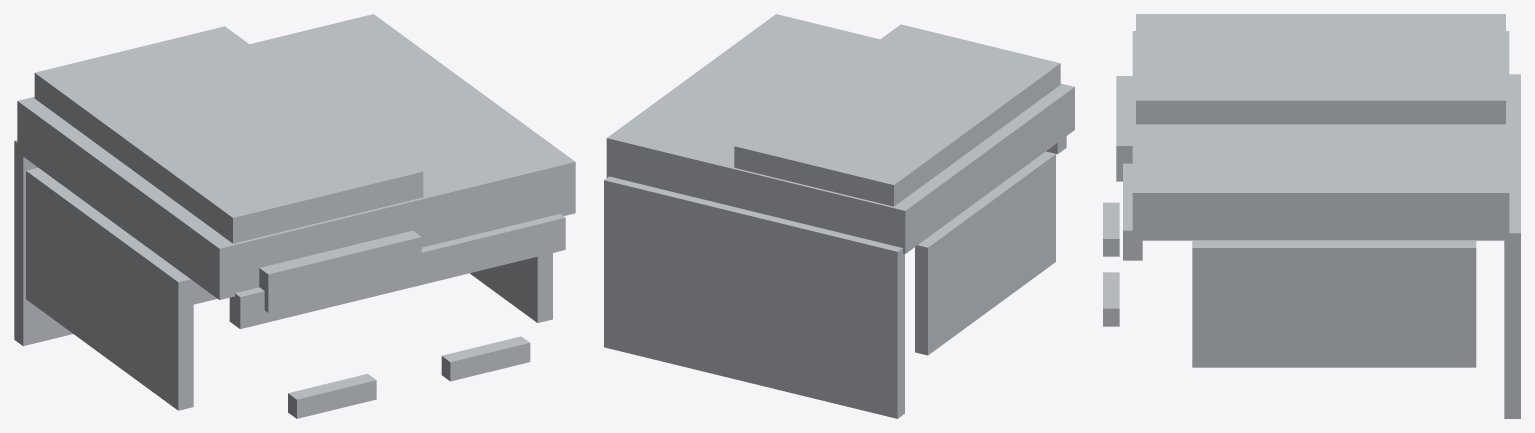
File: npc_gear_hair_parted.fbx
3 views of the same model, side by side, from view 1: azimuth 30°, elevation 25°; view 2: azimuth 150°, elevation 25°; view 3: azimuth 270°, elevation 25° (orthographic). The views are drawn at different scales.
Visible parts, largest first — view 1: npc_gear_hair_parted; view 2: npc_gear_hair_parted; view 3: npc_gear_hair_parted.
Boxes of the visible parts, <box> form: npc_gear_hair_parted: <box>14,14,575,418</box>; npc_gear_hair_parted: <box>604,14,1074,418</box>; npc_gear_hair_parted: <box>1103,14,1520,418</box>.
Size of the model in its own units: 122 by 84 by 127.
